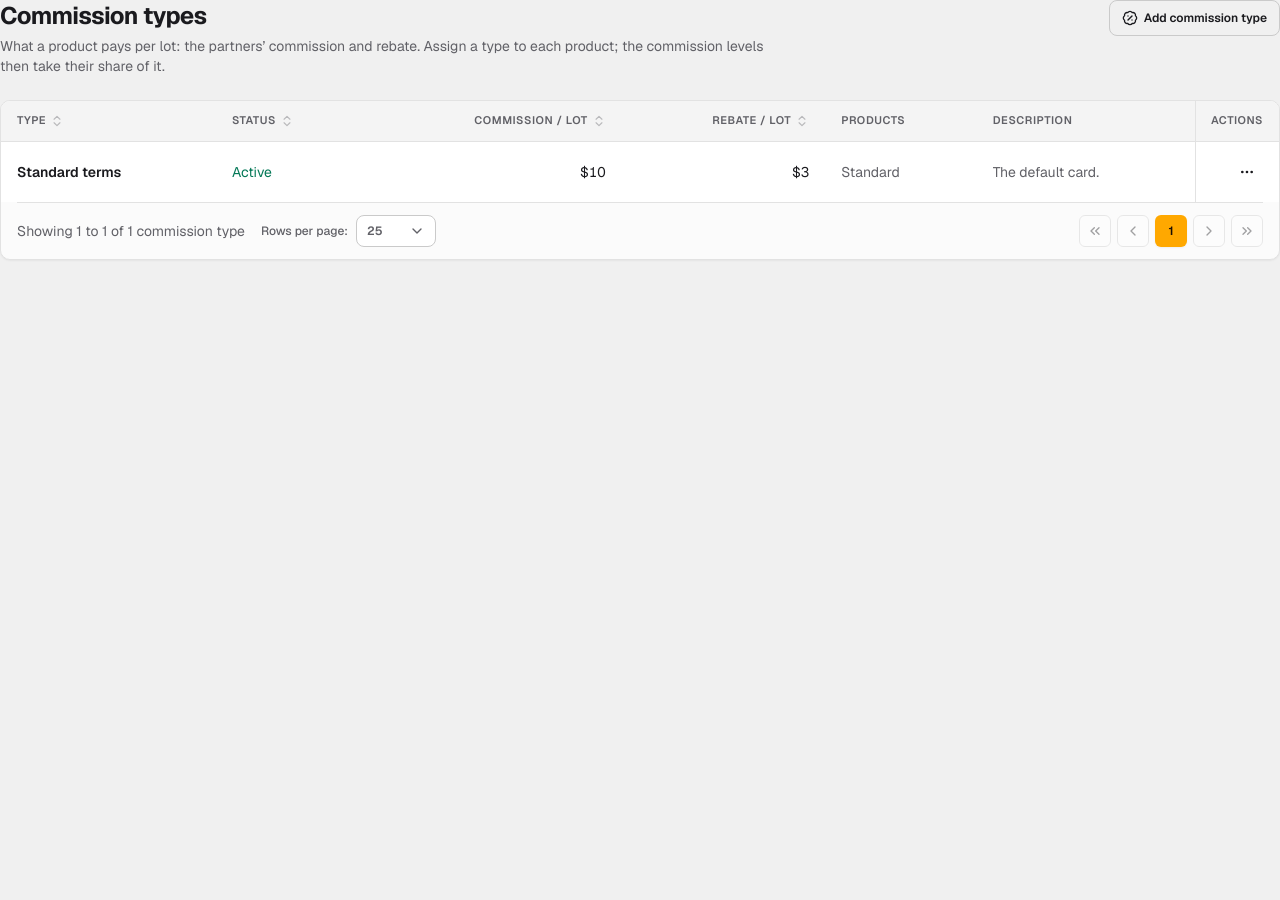
Scenario: the commission types › names the products on a type before offering to delete it
This screenshot has width=1280, height=900.
Click the button named "actions for standard terms": (1247, 172) [1231, 156, 1263, 188]
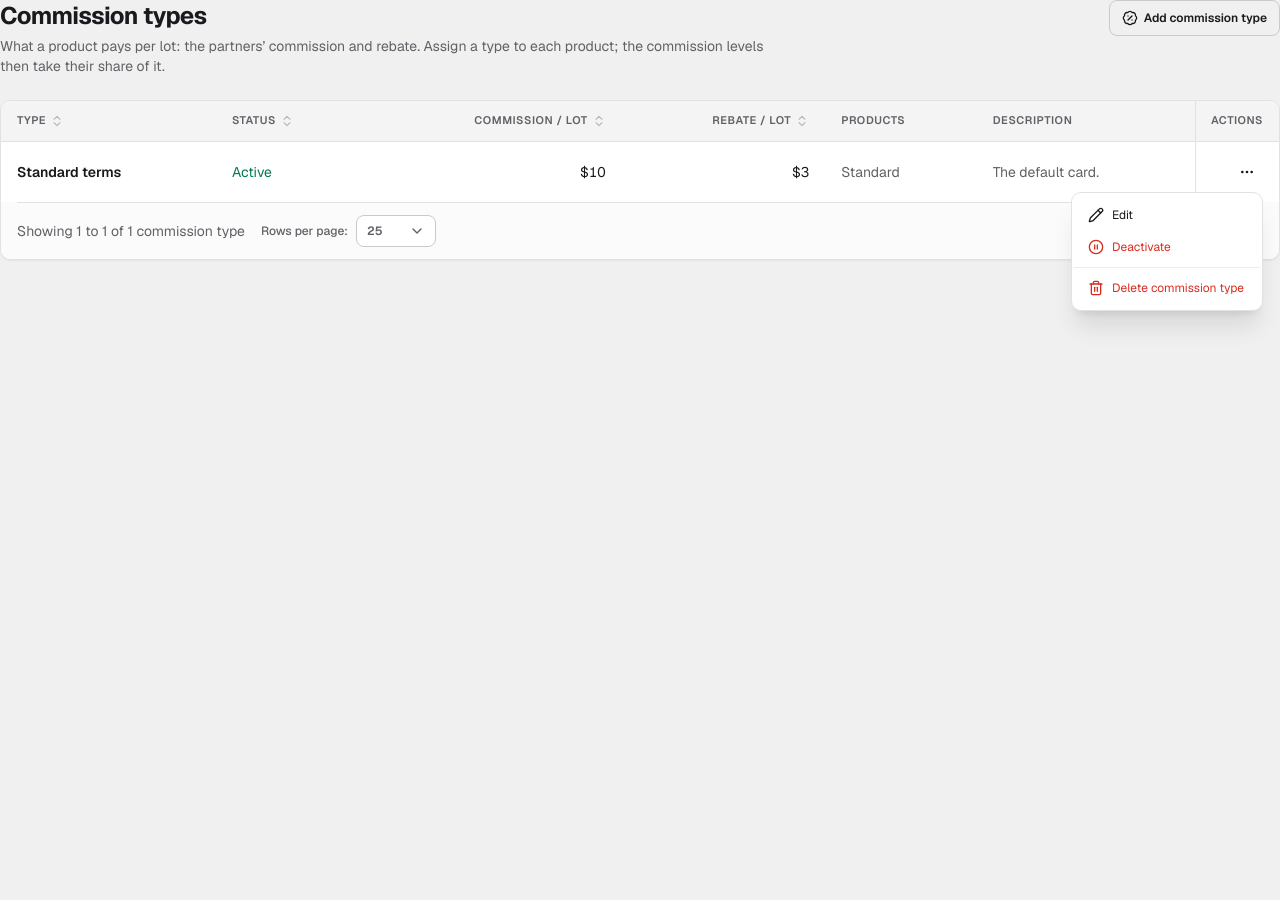
Click the menu item "Delete commission type": (1166, 288) [1088, 280, 1244, 296]
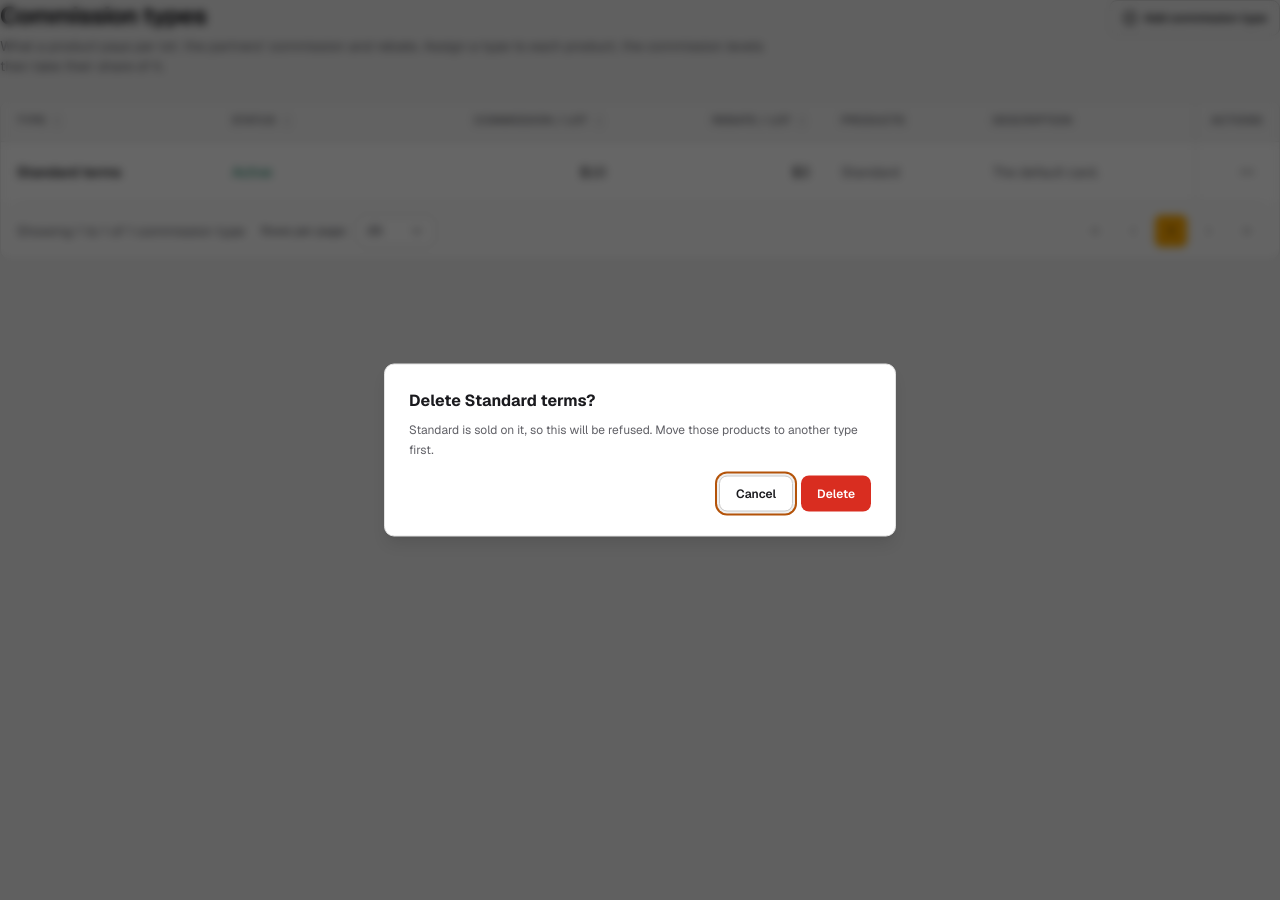
Expected: the text "Standard is sold on it" is shown, [409, 422, 858, 457]
